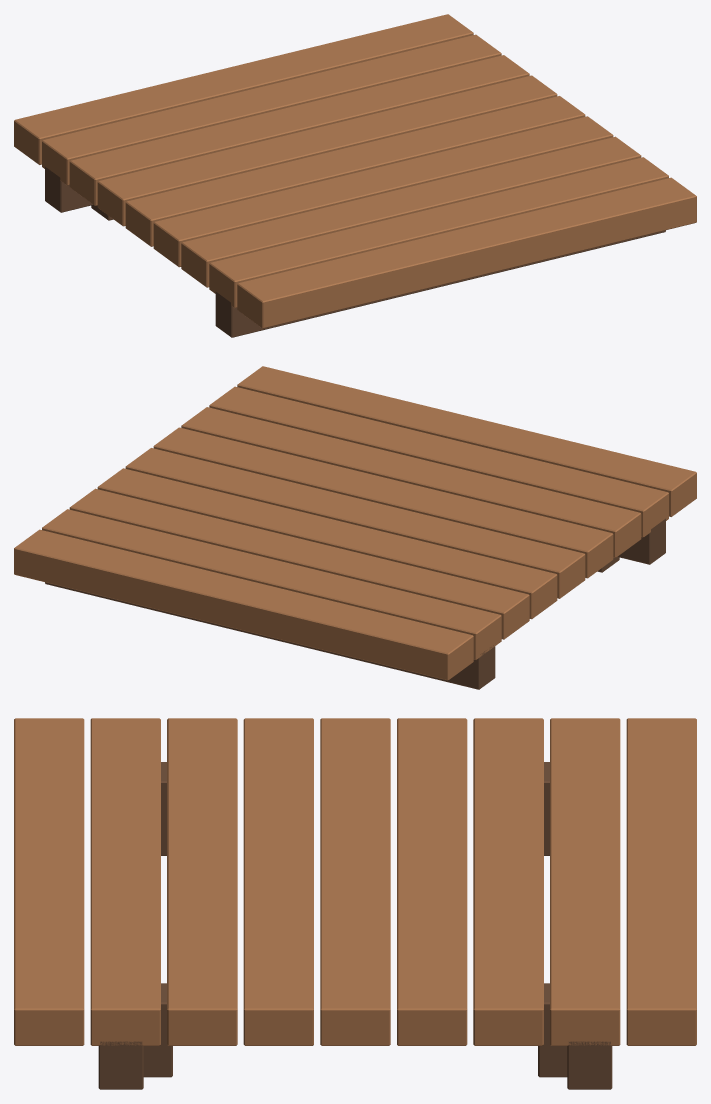
Rendered from wood_platform_square_01.glb.
3 views of the same model, one above another, from view 1: azimuth 30°, elevation 25°; view 2: azimuth 150°, elevation 25°; view 3: azimuth 270°, elevation 25° (orthographic). The views are drawn at different scales.
Parts seen in each view (by area): view 1: wood_platform_square_01; view 2: wood_platform_square_01; view 3: wood_platform_square_01.
Boxes of the visible parts, x1,y1,x2,y2 form: wood_platform_square_01: (14, 14, 696, 337); wood_platform_square_01: (14, 366, 696, 689); wood_platform_square_01: (14, 718, 696, 1089).
Size of the model in its own units: 2 by 0.3 by 1.98.
